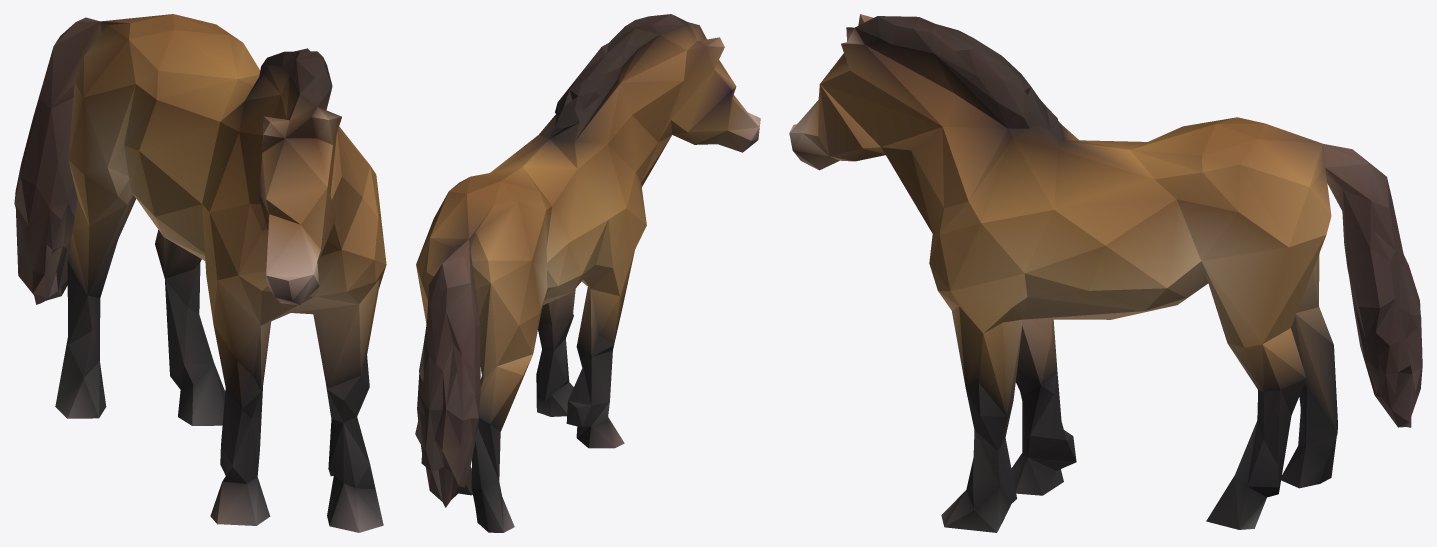
Rendered from horse-wild.far.glb.
The picture shows the model from 3 angles, left to right: view 1: azimuth 30°, elevation 25°; view 2: azimuth 150°, elevation 25°; view 3: azimuth 270°, elevation 25°; orthographic projection. The views are drawn at different scales.
Bounding box in the file's own units: 0.7704 × 1.74 × 2.13.
